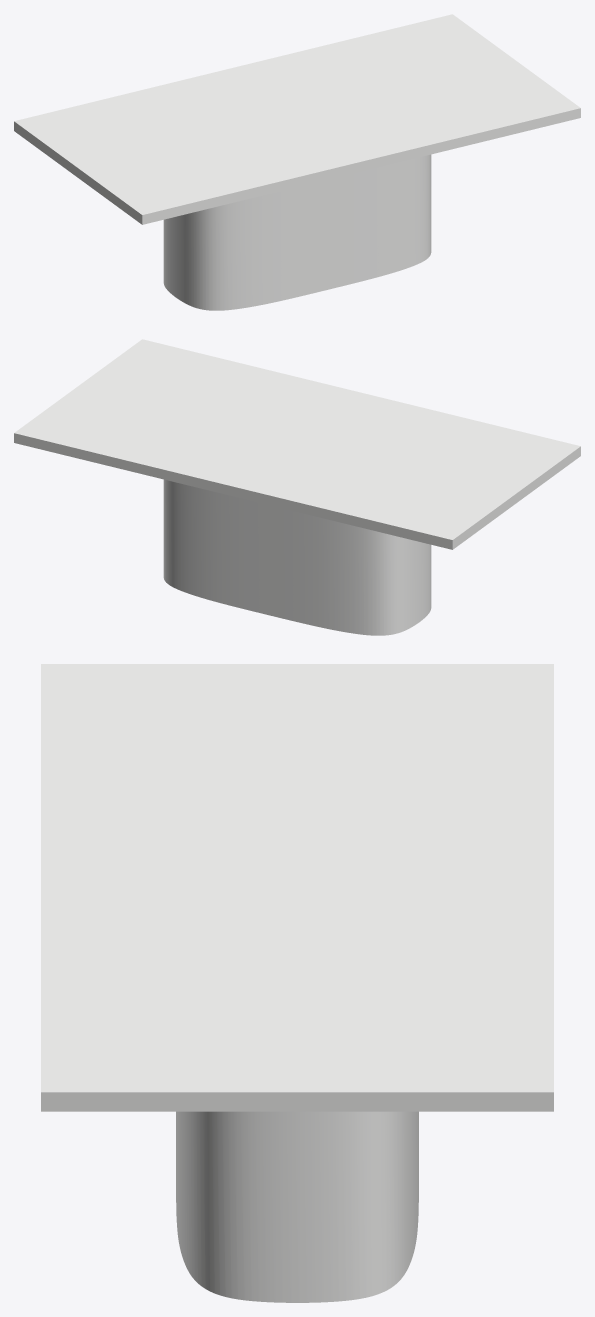
File: purewhite_recta_standard_fixed.glb
The picture shows the model from 3 angles, top to bottom: view 1: azimuth 30°, elevation 25°; view 2: azimuth 150°, elevation 25°; view 3: azimuth 270°, elevation 25°; orthographic projection. The views are drawn at different scales.
Parts seen in each view (by area): view 1: standard_recta, fixed; view 2: standard_recta, fixed; view 3: standard_recta, fixed.
Part boxes in pixels (x1,y1,x2,y2): standard_recta: (14,14,580,224); fixed: (163,154,431,310); standard_recta: (14,339,580,549); fixed: (163,479,431,635); standard_recta: (41,664,553,1111); fixed: (176,1111,418,1302).
Bounding box in the file's own units: 7.5 × 2.5 × 3.8.
1 material, 1 textured.
